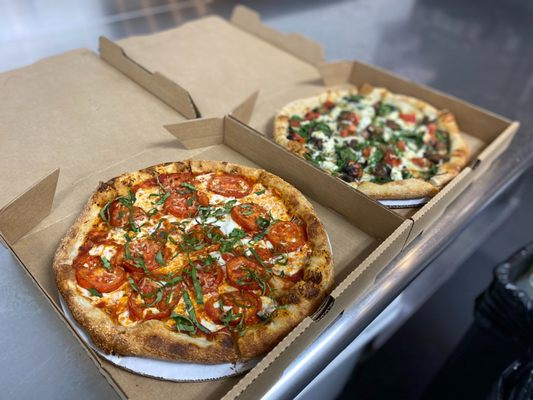curry: (0, 6, 528, 399)
sandwich: (52, 158, 334, 366), (272, 83, 476, 202)
